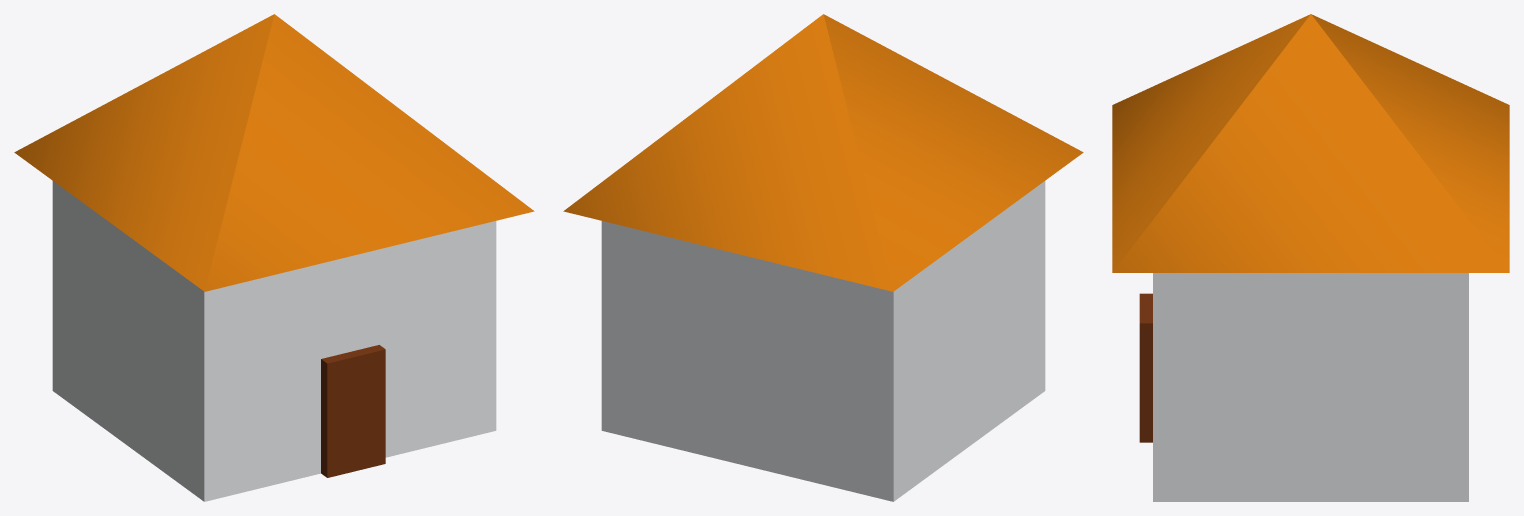
The model's file is house.glb.
3 views of the same model, side by side, from view 1: azimuth 30°, elevation 25°; view 2: azimuth 150°, elevation 25°; view 3: azimuth 270°, elevation 25° (orthographic). The views are drawn at different scales.
Size of the model in its own units: 0.4525 by 0.52 by 0.4525.
